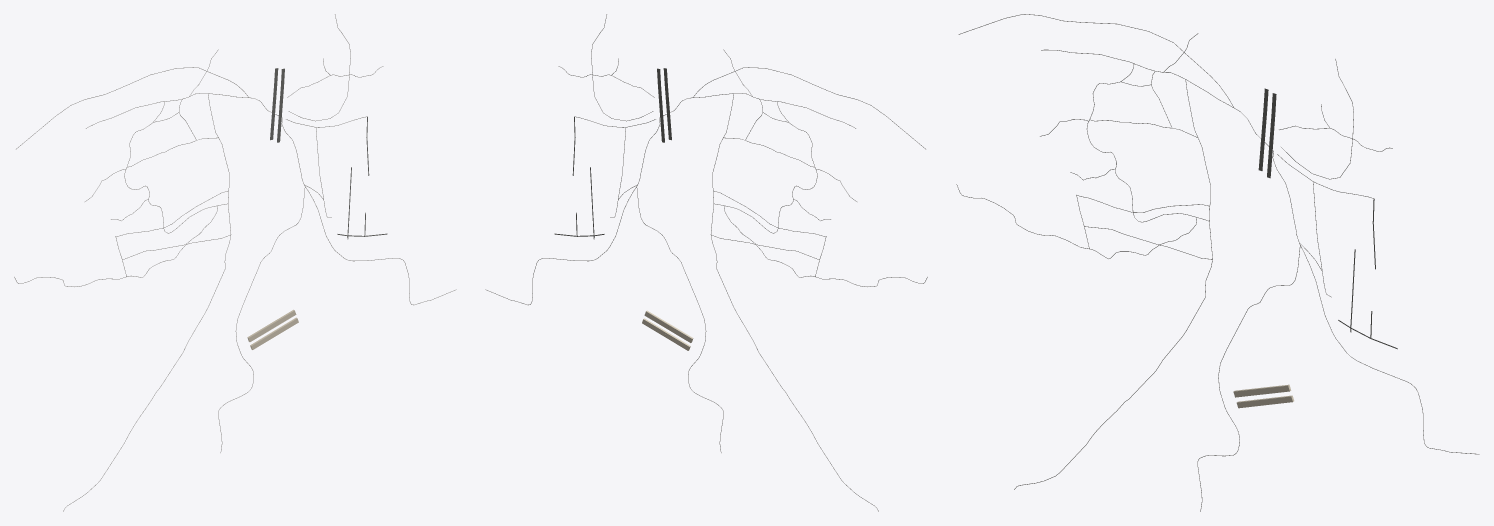
Rendered from historic-palestine-08_30_3503_3244.glb.
3 renders of one model, left to right at view 1: azimuth 30°, elevation 25°; view 2: azimuth 150°, elevation 25°; view 3: azimuth 330°, elevation 25°, orthographic. The views are drawn at different scales.
Size of the model in its own units: 1647 by 1534 by 8.7.
